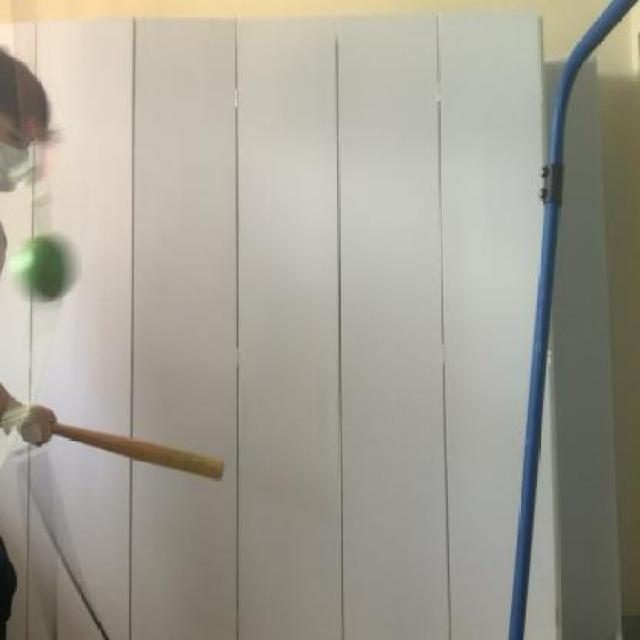baseball: (13, 222, 76, 302)
